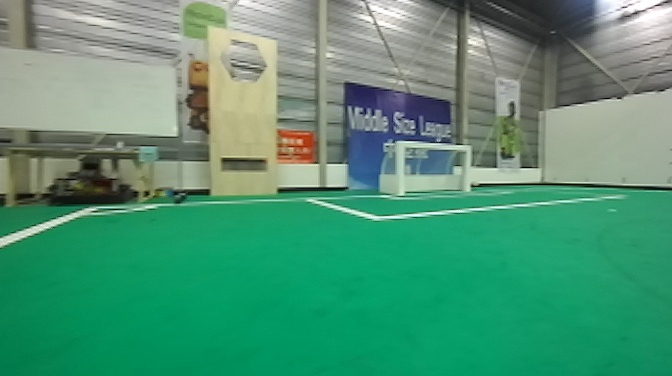goalpost: (389, 138, 410, 199), (457, 139, 471, 197)
